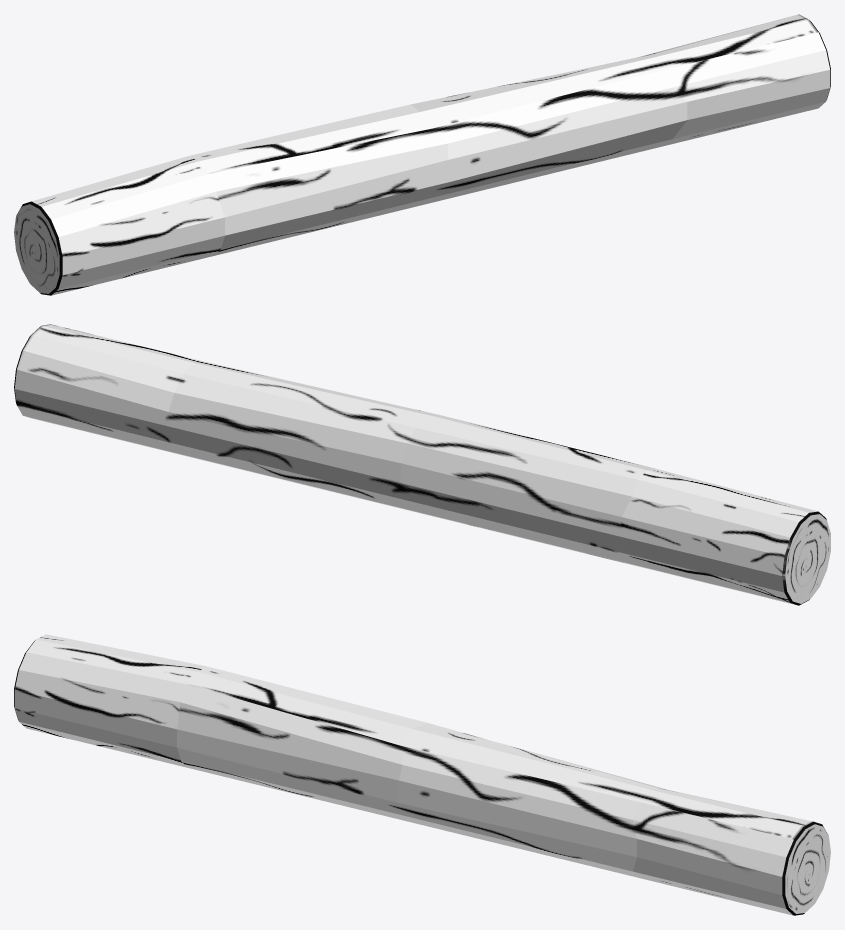
The model's file is Trunk.fbx.
3 renders of one model, top to bottom at view 1: azimuth 30°, elevation 25°; view 2: azimuth 150°, elevation 25°; view 3: azimuth 330°, elevation 25°, orthographic.
Visible parts, largest first — view 1: Cylinder; view 2: Cylinder; view 3: Cylinder.
Part boxes in pixels (x1,y1,x2,y2): Cylinder: (14, 14, 830, 295); Cylinder: (14, 324, 830, 605); Cylinder: (14, 634, 830, 915).
Bounding box in the file's own units: 8.46 × 0.9708 × 0.9671.
